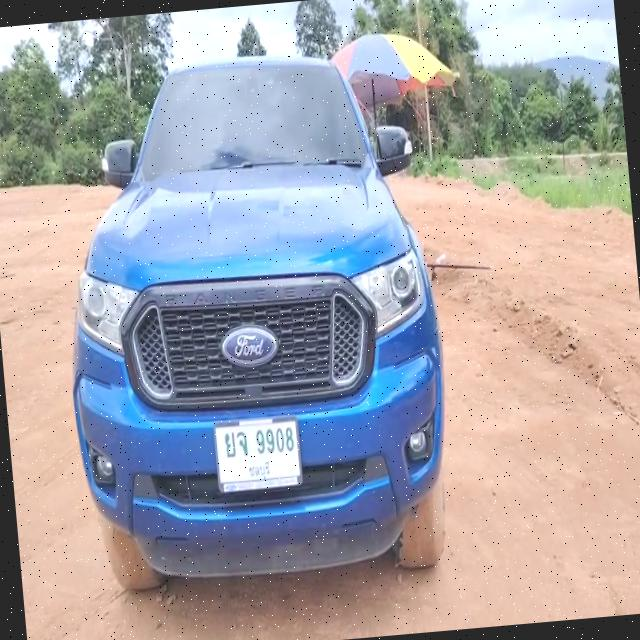Digit: (251, 422, 296, 456)
Licenseplate: (212, 416, 302, 492)
Provincename: (246, 459, 272, 481)
Thaichar: (223, 428, 249, 458)
